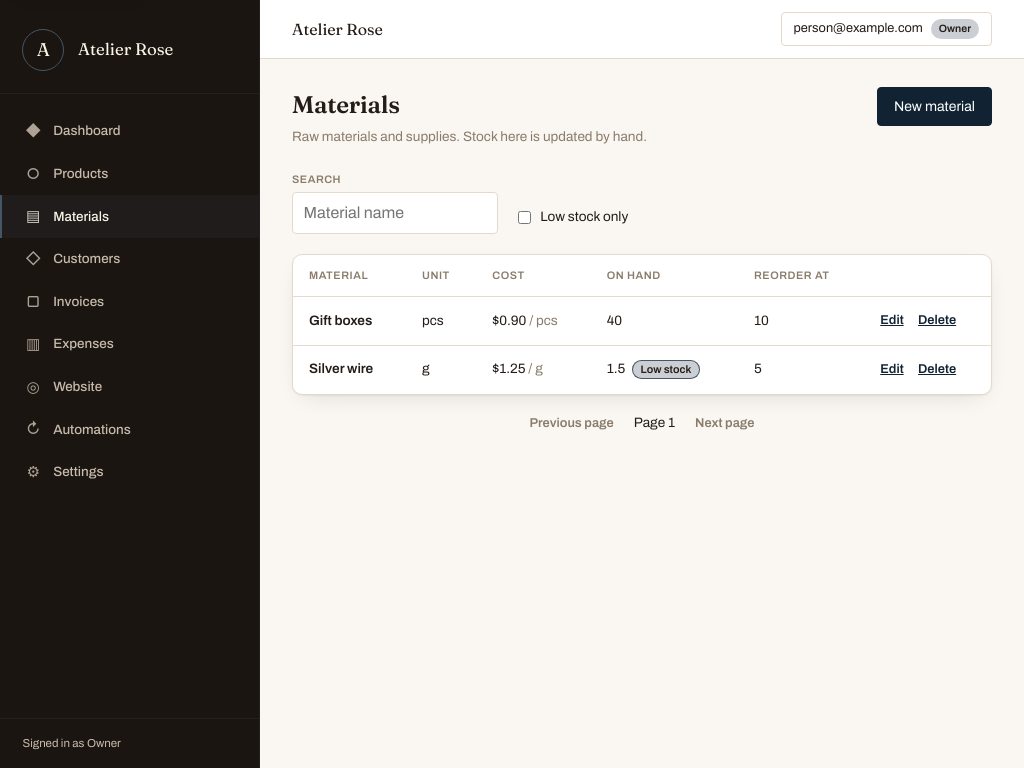
Test case: delete › a material used by products: shows the server's 409 and keeps it
This screenshot has width=1024, height=768.
Step 1. Click the button with aria-label "Delete Silver wire" → [937, 370], box [918, 357, 956, 382]
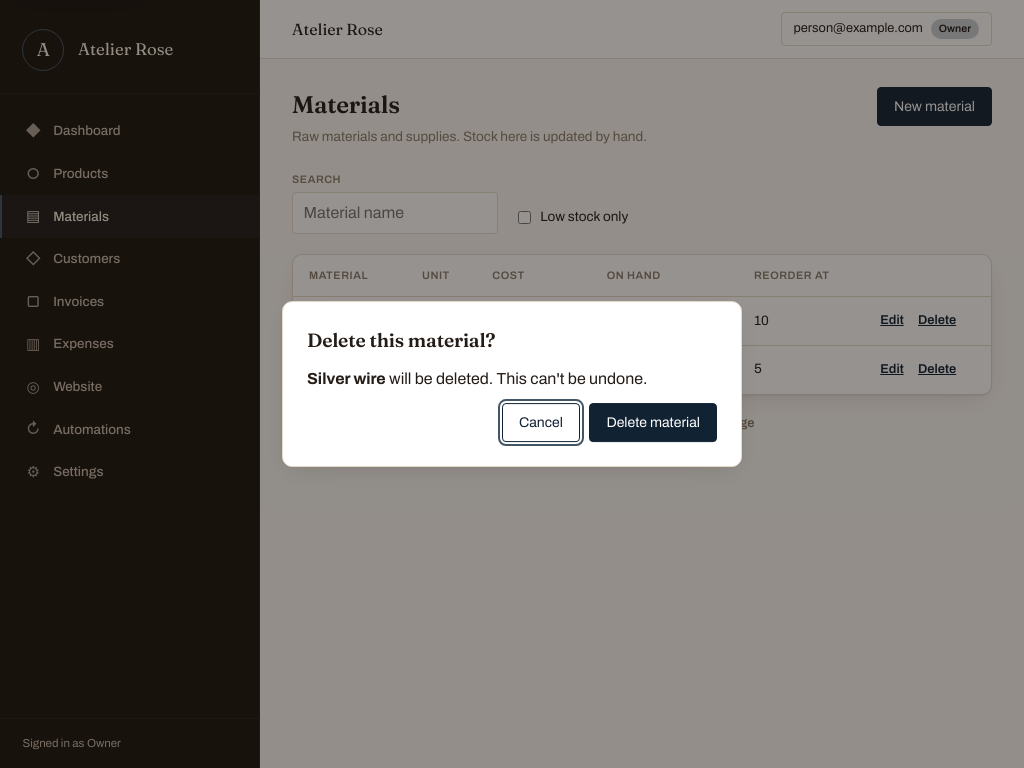
Step 2. Click the button "Delete material" → [653, 422], box [589, 403, 717, 442]
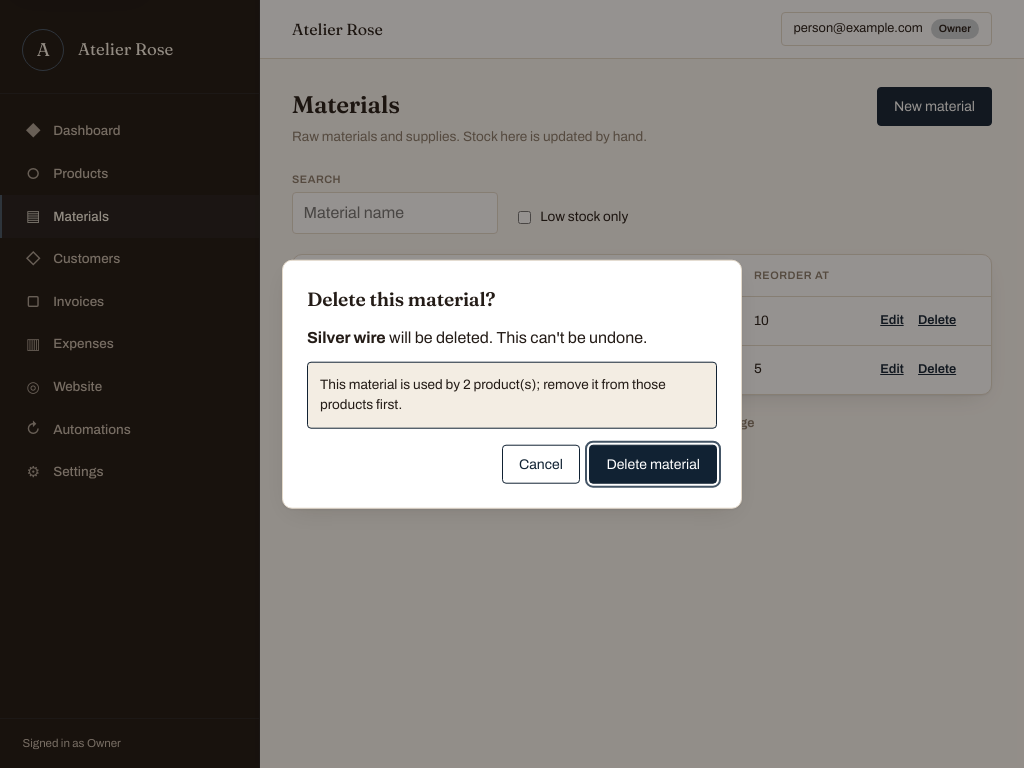
Result: the message reads "This material is used by 2 product(s); remove it from those products first." at [320, 376, 666, 412]
